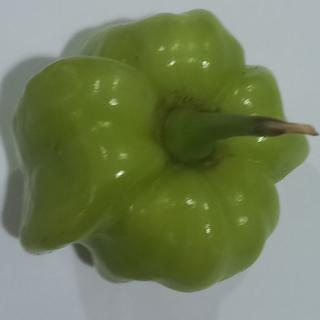Grade-B: (3, 0, 314, 297)
